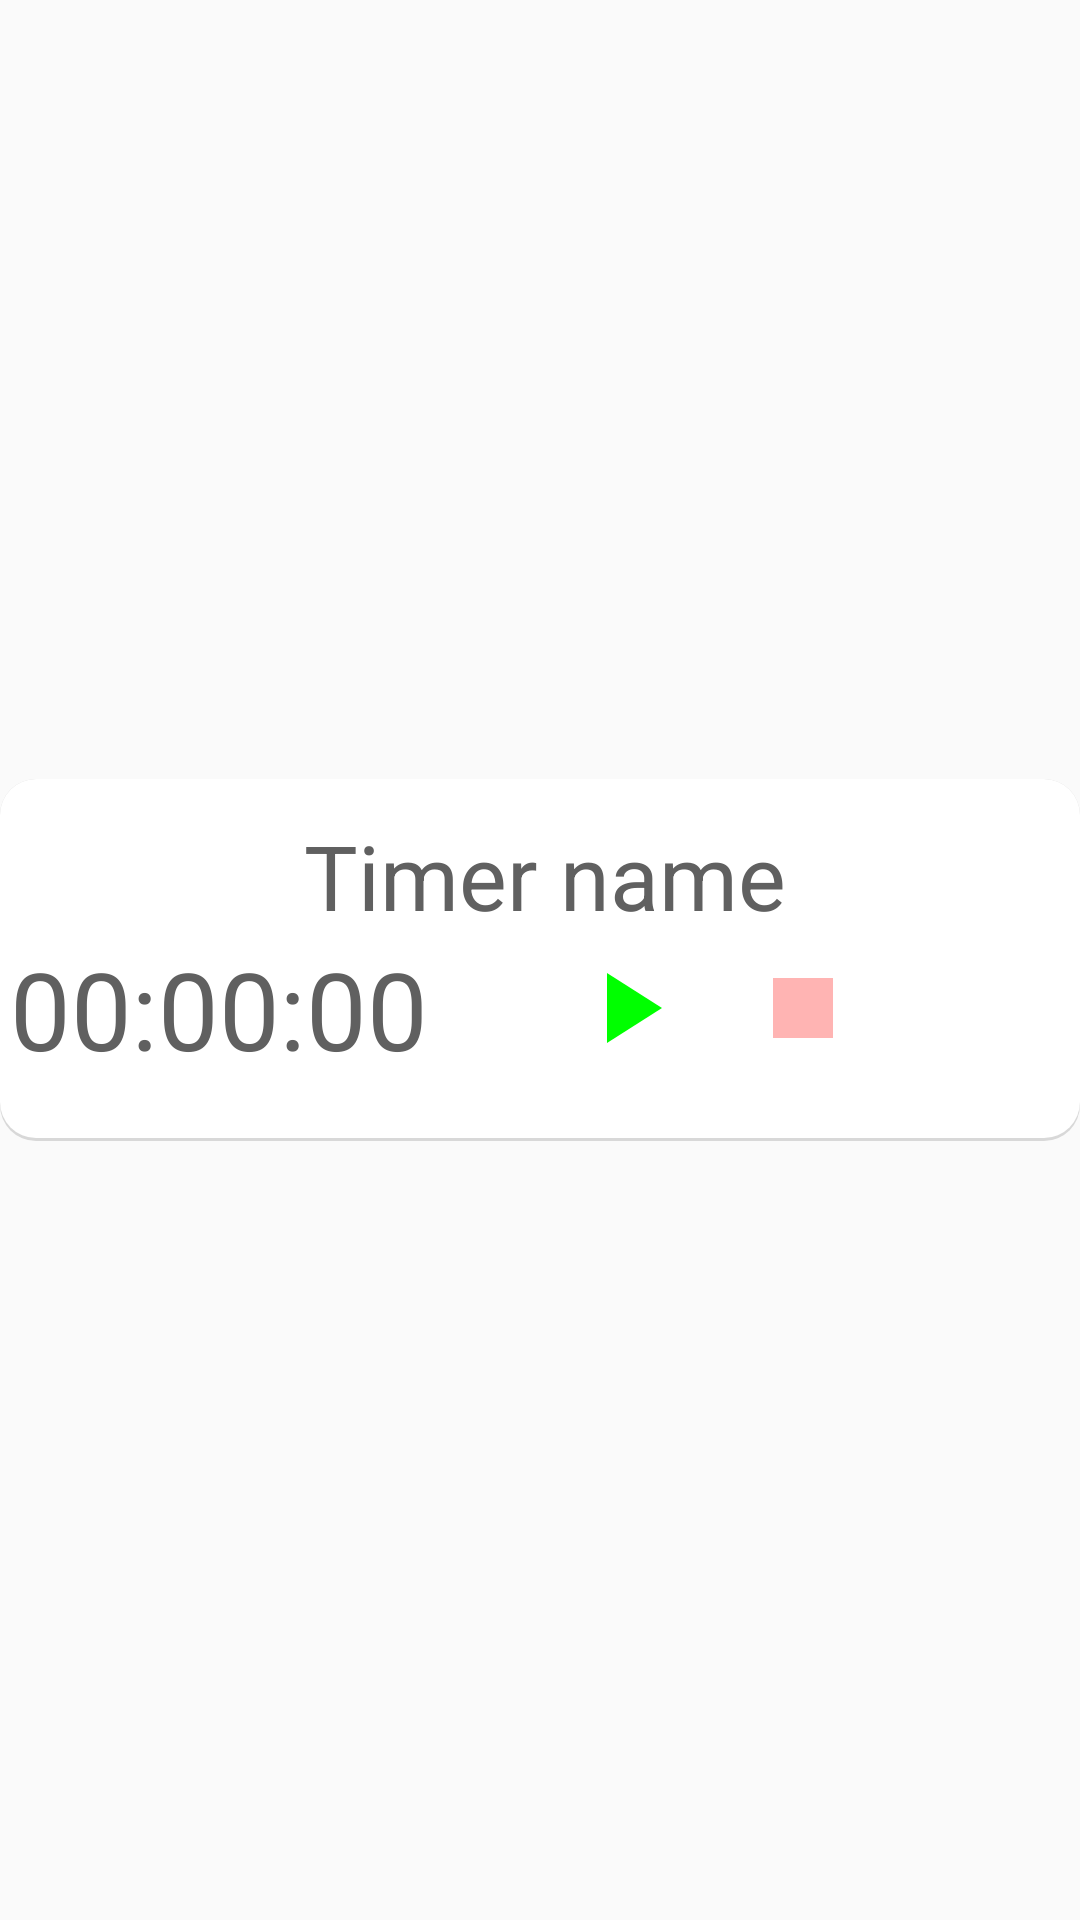

Screen size 1080px×1920px. Icon name, then its box in pixels as rect(x1, y1, x2, y2):
play: rect(607, 973, 662, 1043)
